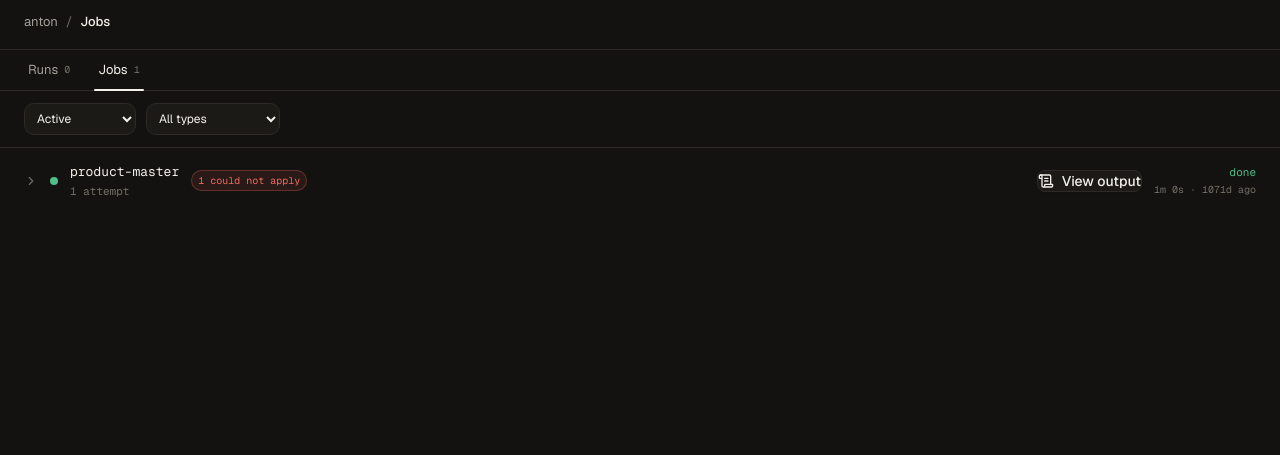
Test case: jobs page — what each pass applied, shadowed and refused › separates a write that broke from a move the board declined
Click the button "product-master 1 attempt 1 could not apply".
click(125, 171)  # box x1=24 y1=162 x2=1025 y2=200
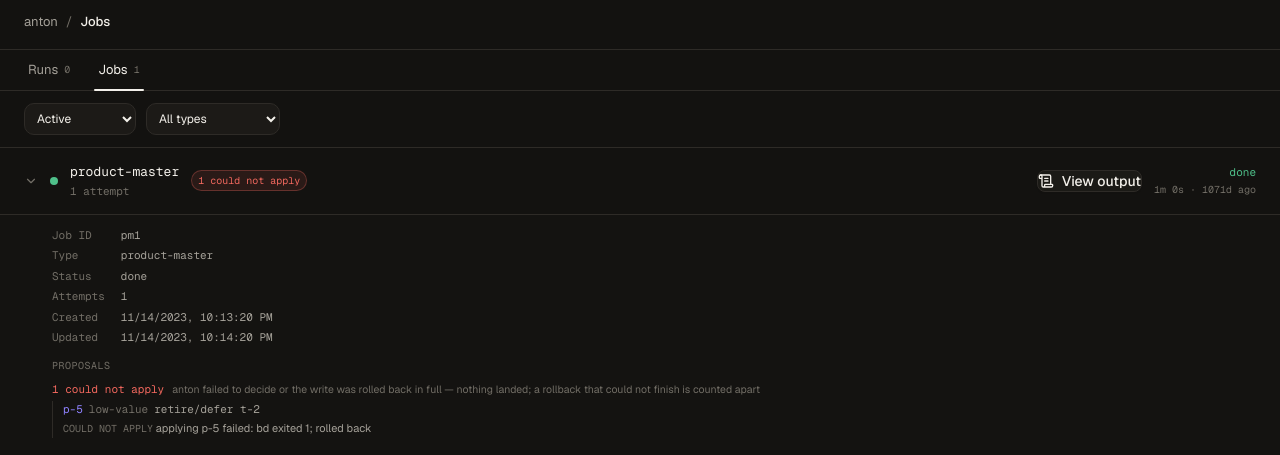
Expected: the text "1 could not apply" below "Proposals" is shown, x1=52 y1=380 x2=164 y2=397
